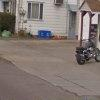Motorcycle: (71, 40, 100, 71)
